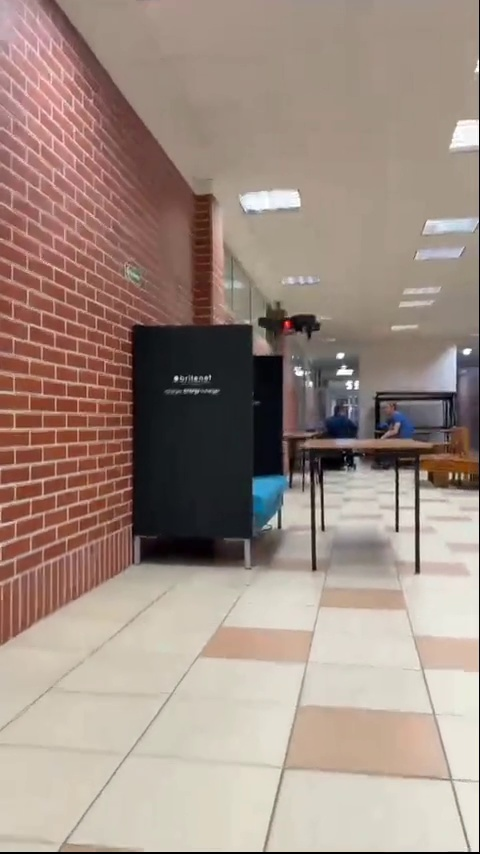drone: (257, 314, 318, 337)
no vest: (380, 393, 415, 438), (327, 398, 365, 438)
